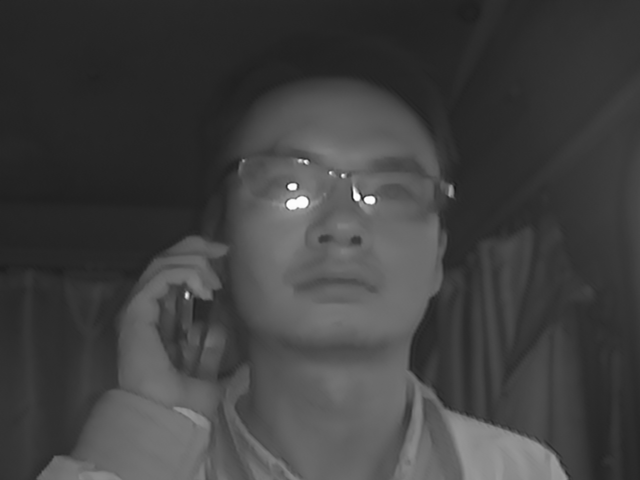hand: (112, 233, 234, 417)
